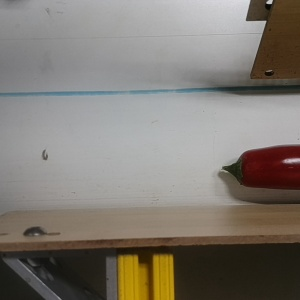Cut Point: (230, 148, 257, 190)
